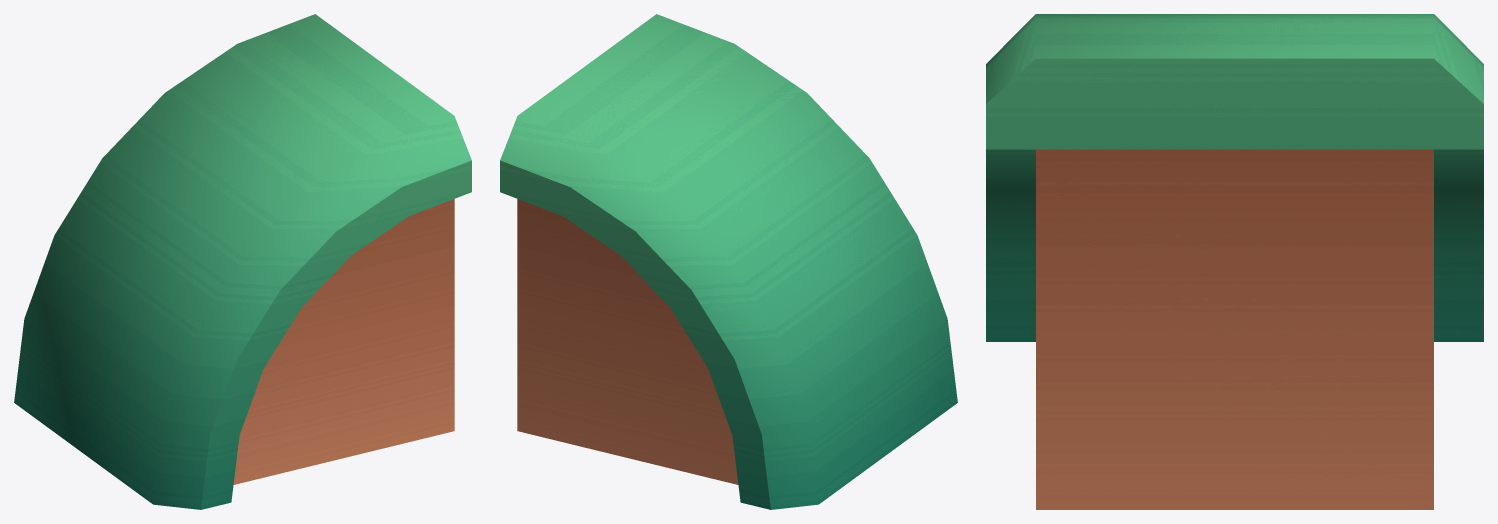
The model's file is block-grass-curve-half.glb.
3 renders of one model, left to right at view 1: azimuth 30°, elevation 25°; view 2: azimuth 150°, elevation 25°; view 3: azimuth 270°, elevation 25°, orthographic. The views are drawn at different scales.
Visible parts, largest first — view 1: block-grass-curve-half; view 2: block-grass-curve-half; view 3: block-grass-curve-half.
Boxes of the visible parts, box(x1,y1,x2,y2) form: block-grass-curve-half: box(14, 14, 471, 509); block-grass-curve-half: box(500, 14, 957, 509); block-grass-curve-half: box(986, 14, 1483, 509).
Size of the model in its own units: 1 by 1 by 1.
Materials: 1 (1 with a texture image).
